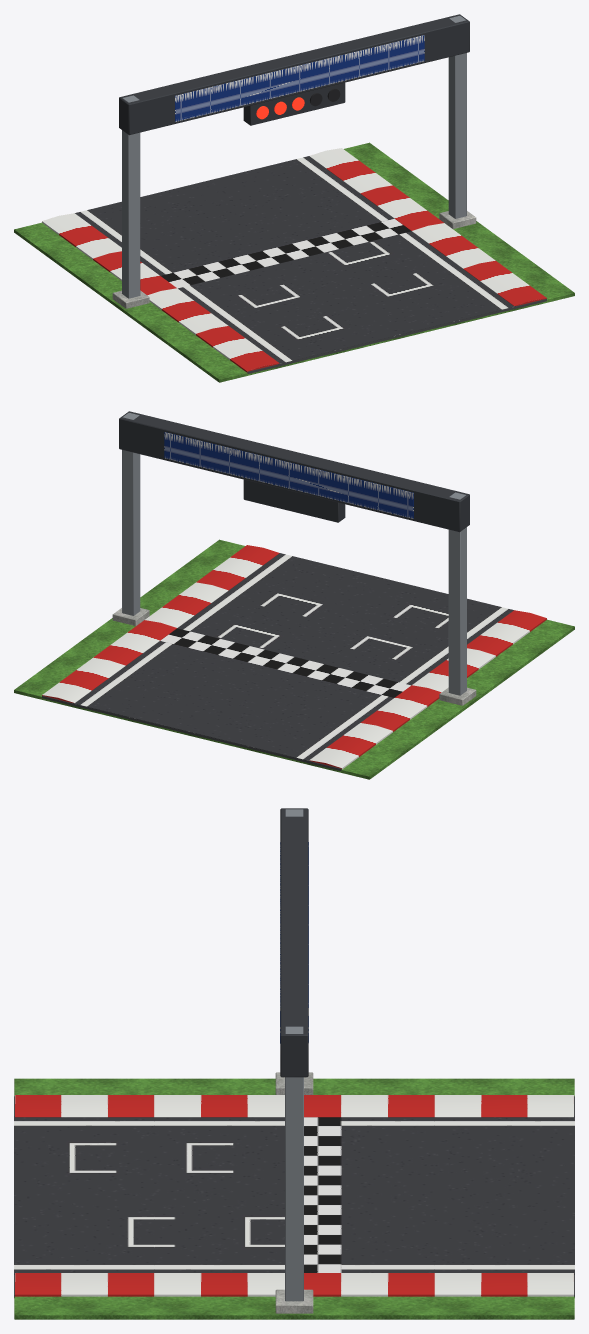
The model's file is race-track-start-finish.glb.
The picture shows the model from 3 angles, top to bottom: view 1: azimuth 30°, elevation 25°; view 2: azimuth 150°, elevation 25°; view 3: azimuth 270°, elevation 25°; orthographic projection. The views are drawn at different scales.
Visible parts, largest first — view 1: Race_Track_Start_Finish; view 2: Race_Track_Start_Finish; view 3: Race_Track_Start_Finish.
Boxes of the visible parts, left/top/right/bottom form: Race_Track_Start_Finish: left=14, top=14, right=574, bottom=382; Race_Track_Start_Finish: left=14, top=411, right=574, bottom=779; Race_Track_Start_Finish: left=14, top=808, right=574, bottom=1319.
Bounding box in the file's own units: 11.98 × 6.6 × 12.
Materials: 10 (5 with a texture image).
